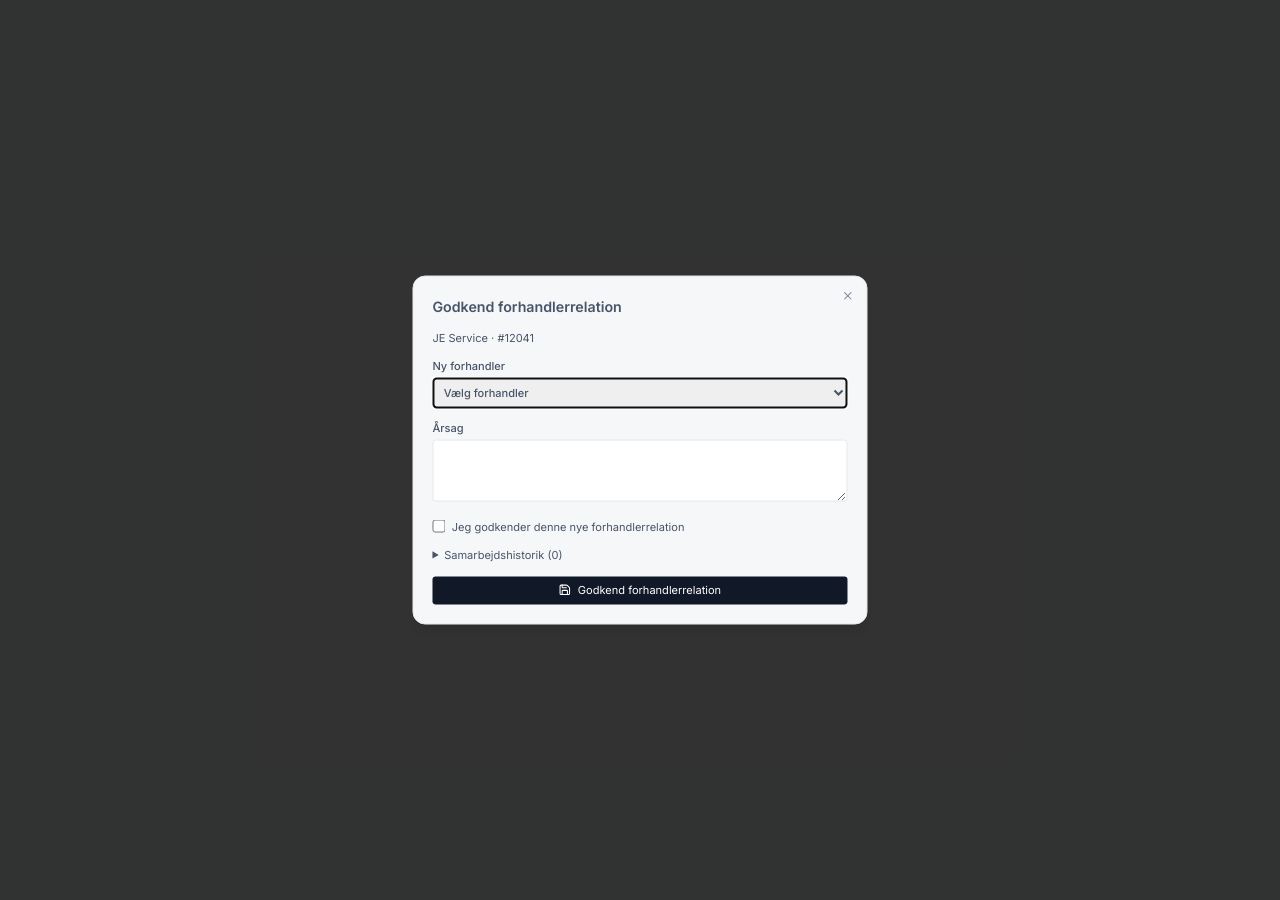
Test case: permanent Backend cooperation actions › requires a reason and explicit new-relation approval, without guessing from C5
Click the button "Godkend forhandlerrelation": (640, 590) [432,576,848,604]
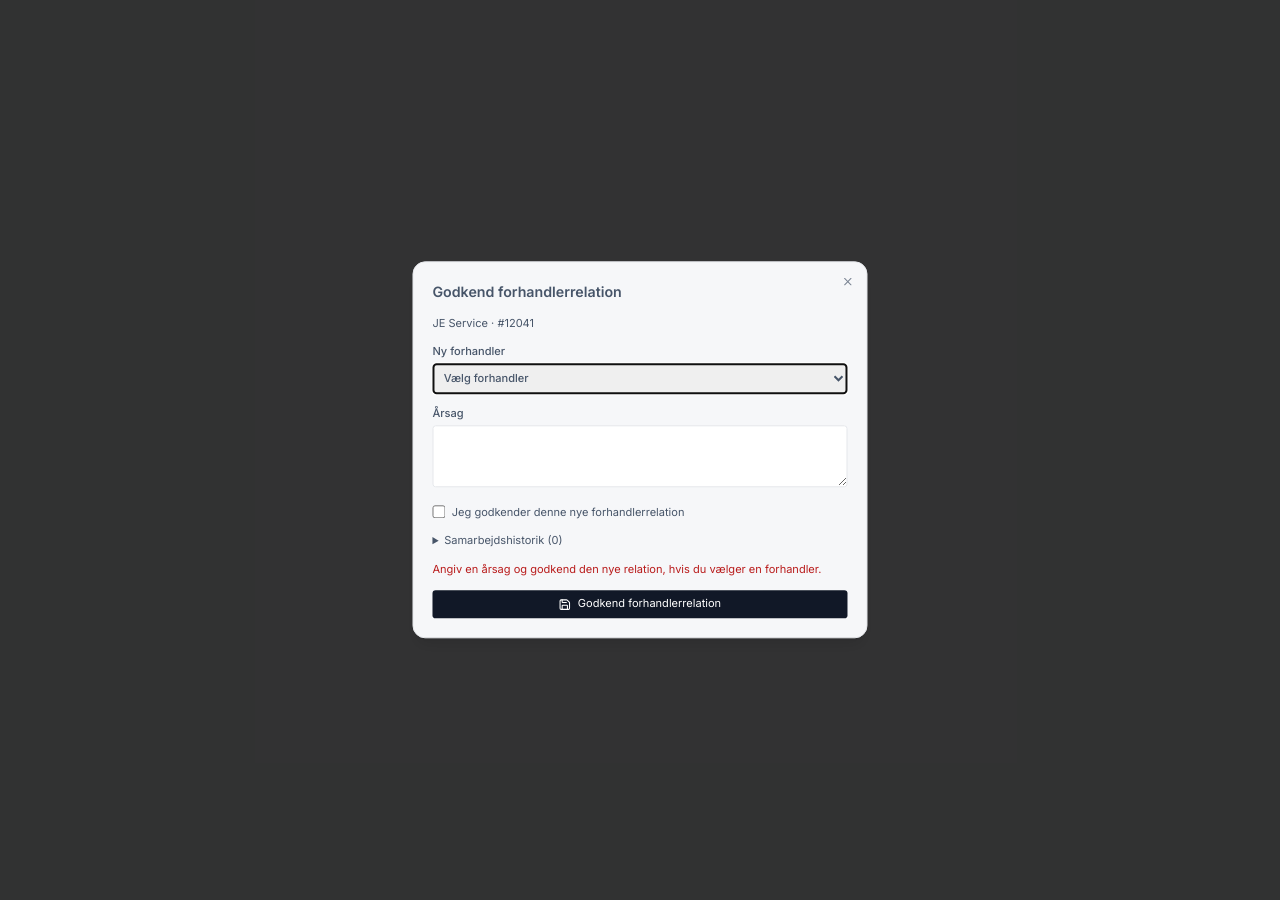
Expected: the dropdown labelled "Ny forhandler" shows "Vælg forhandler", [432,363,848,394]
Expected: the message shows "Angiv en årsag", [432,562,821,576]
